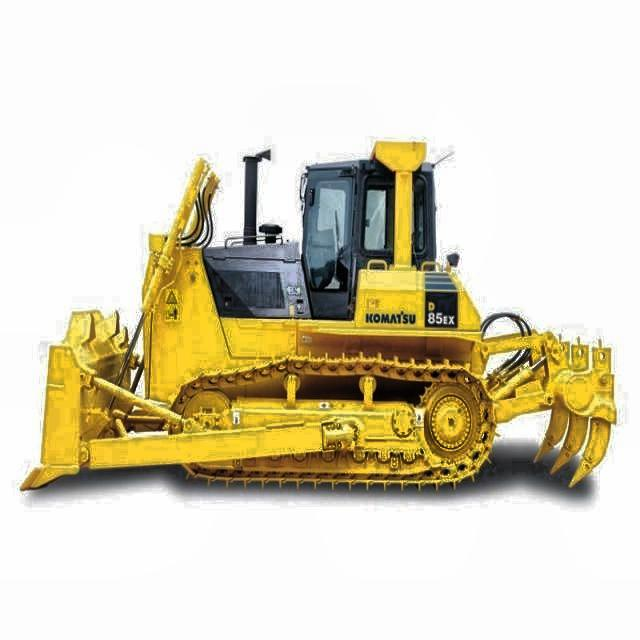bull_dozer/loader/grader: (20, 117, 626, 509)
